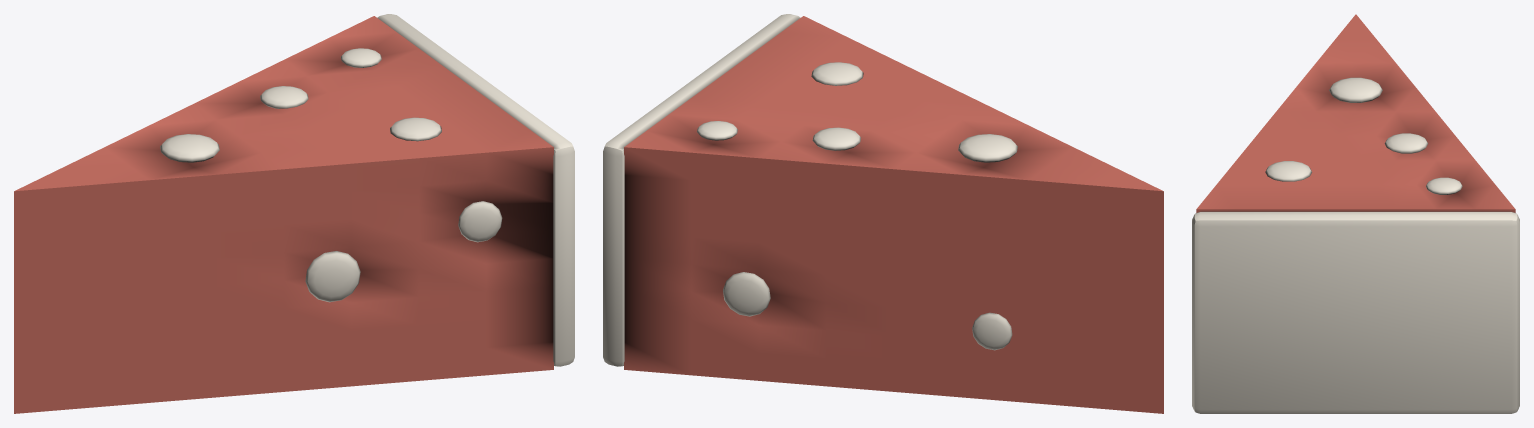
Rendered from food_cheese.glb.
3 views of the same model, side by side, from view 1: azimuth 30°, elevation 25°; view 2: azimuth 150°, elevation 25°; view 3: azimuth 270°, elevation 25° (orthographic). The views are drawn at different scales.
Parts seen in each view (by area): view 1: PART; view 2: PART; view 3: PART.
Boxes of the visible parts, bbox=[...] form: PART: bbox=[14, 14, 574, 413]; PART: bbox=[603, 14, 1163, 413]; PART: bbox=[1192, 14, 1519, 413].
Size of the model in its own units: 0.1155 by 0.0536 by 0.078.
